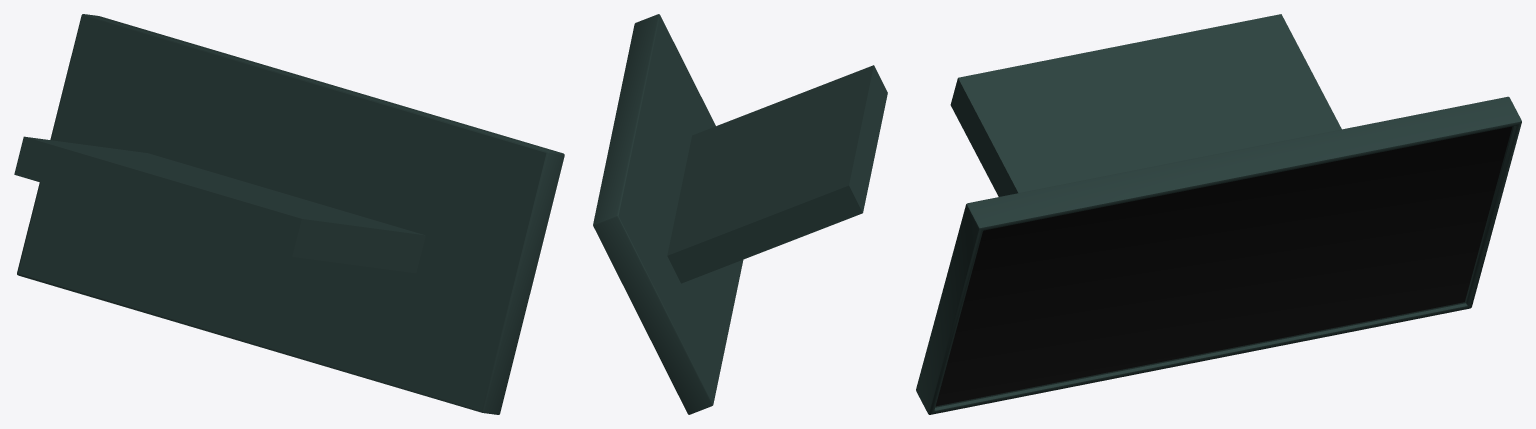
File: éran.FBX
3 renders of one model, left to right at view 1: azimuth 30°, elevation 25°; view 2: azimuth 150°, elevation 25°; view 3: azimuth 270°, elevation 25°, orthographic. The views are drawn at different scales.
Parts seen in each view (by area): view 1: écran; view 2: écran; view 3: écran.
Part boxes in pixels (x1=…): écran: x1=14, y1=14, x2=564, y2=414; écran: x1=593, y1=14, x2=887, y2=414; écran: x1=916, y1=14, x2=1521, y2=414.
Size of the model in its own units: 250 by 136 by 304.
